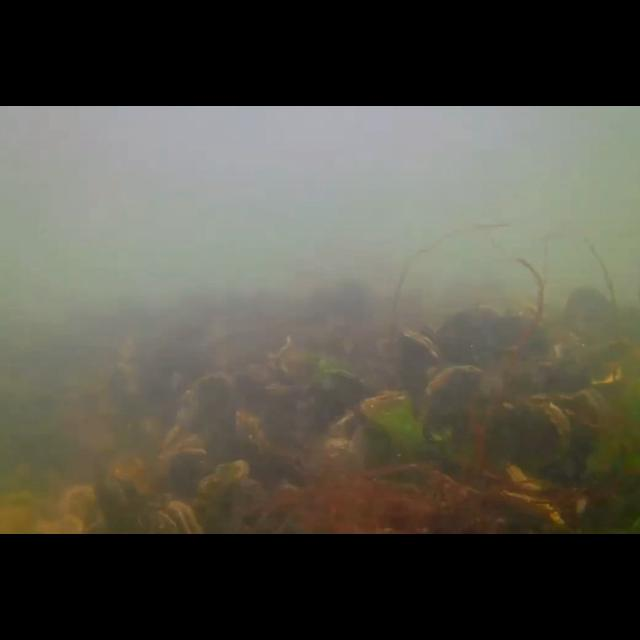Oyster-Closed: (422, 364, 506, 446), (493, 398, 572, 470), (531, 392, 615, 456), (192, 374, 240, 466), (232, 410, 274, 468), (502, 489, 568, 523), (330, 368, 376, 414), (195, 460, 252, 492), (168, 390, 196, 448), (508, 464, 564, 492)
Oyster-Open: (401, 330, 442, 420), (154, 434, 206, 472), (358, 390, 416, 424), (153, 502, 205, 534)
